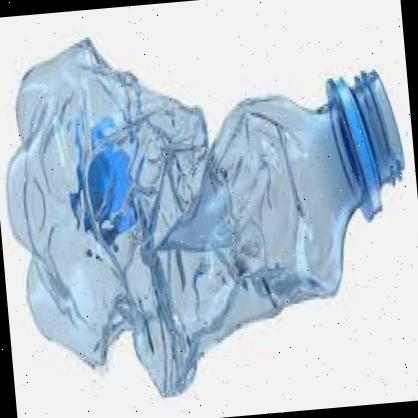bottle: (0, 6, 418, 410)
